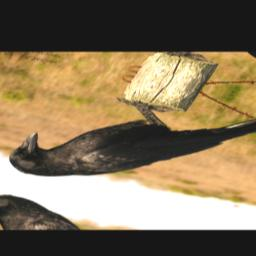Crow: (0, 74, 256, 213)
